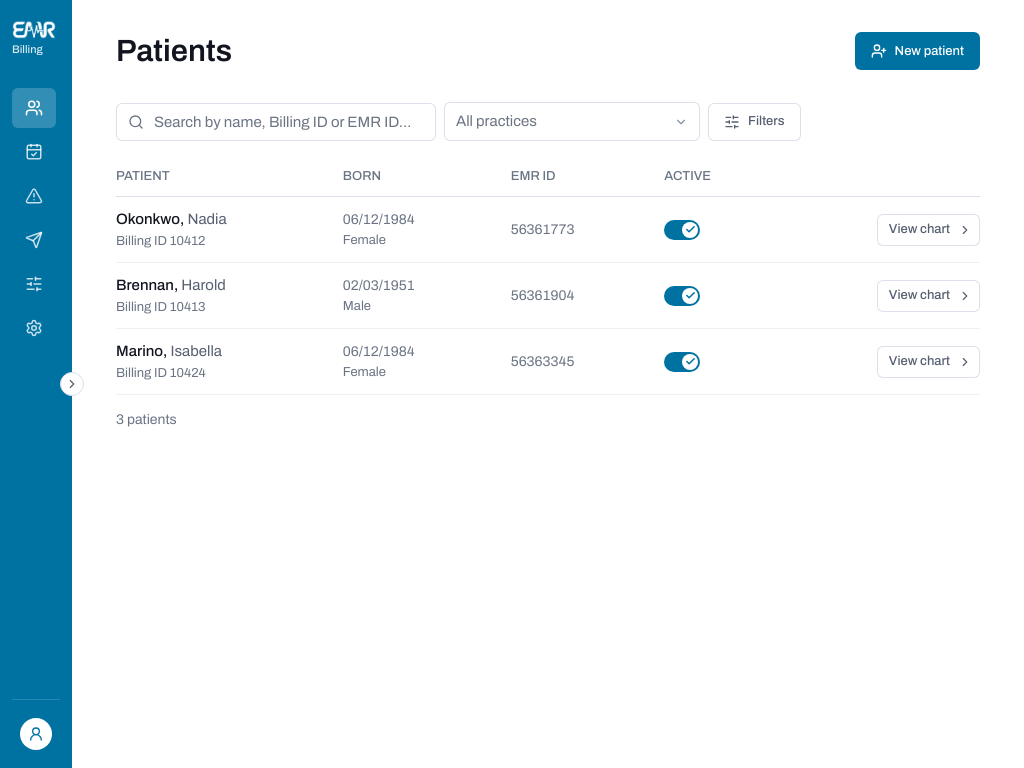
Patients — the roster › deactivates a patient from the roster after a confirmation, with the server’s message
The width and height of the screenshot is (1024, 768).
What coordinates should you click on to do the following:
click the switch named "Okonkwo, Nadia: active" in the row of "Okonkwo"
I would click on:
 (682, 230)
Its box is [664,220,700,240].
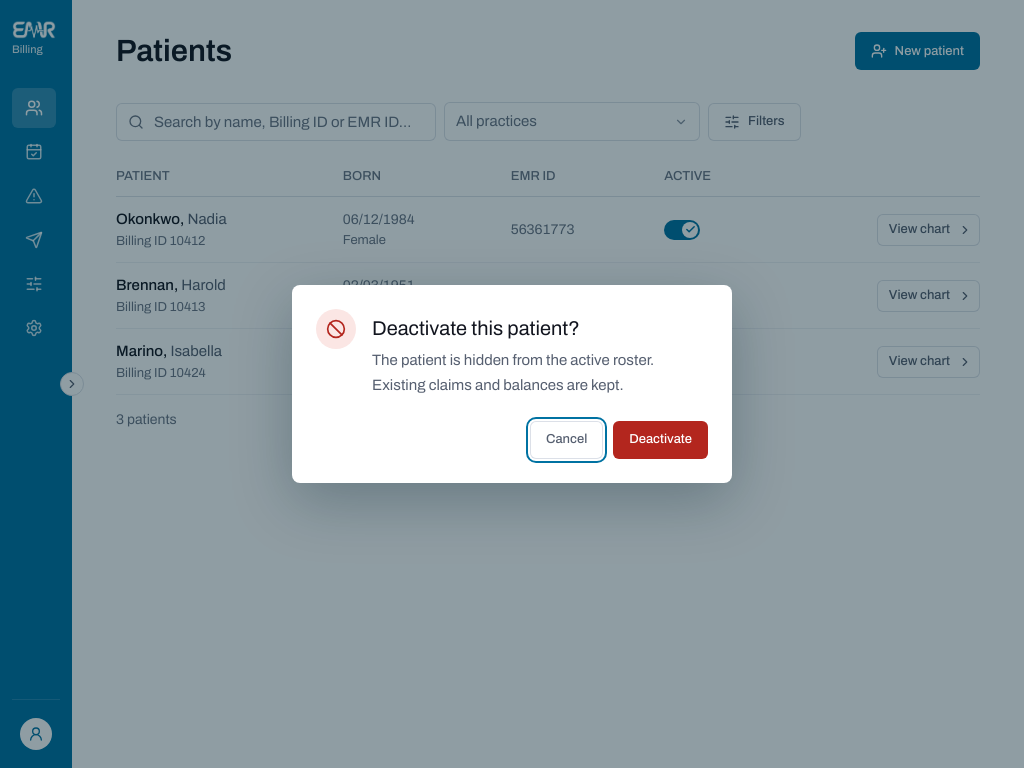
Result: the text "The patient is hidden from the active roster. Existing claims and balances are kept." is shown at [372,352,654,393]
What coordinates should you click on to do the following:
click the button "Deactivate"
I would click on:
 (661, 440)
Its box is [613,421,708,459].
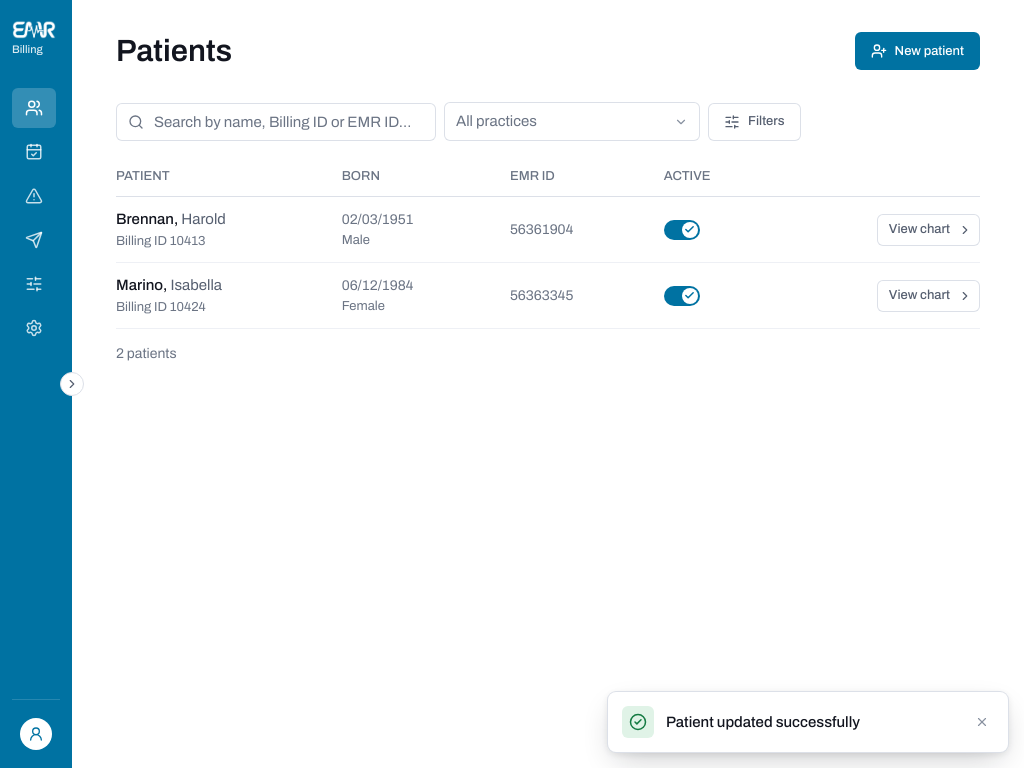
Result: the dialog is gone
